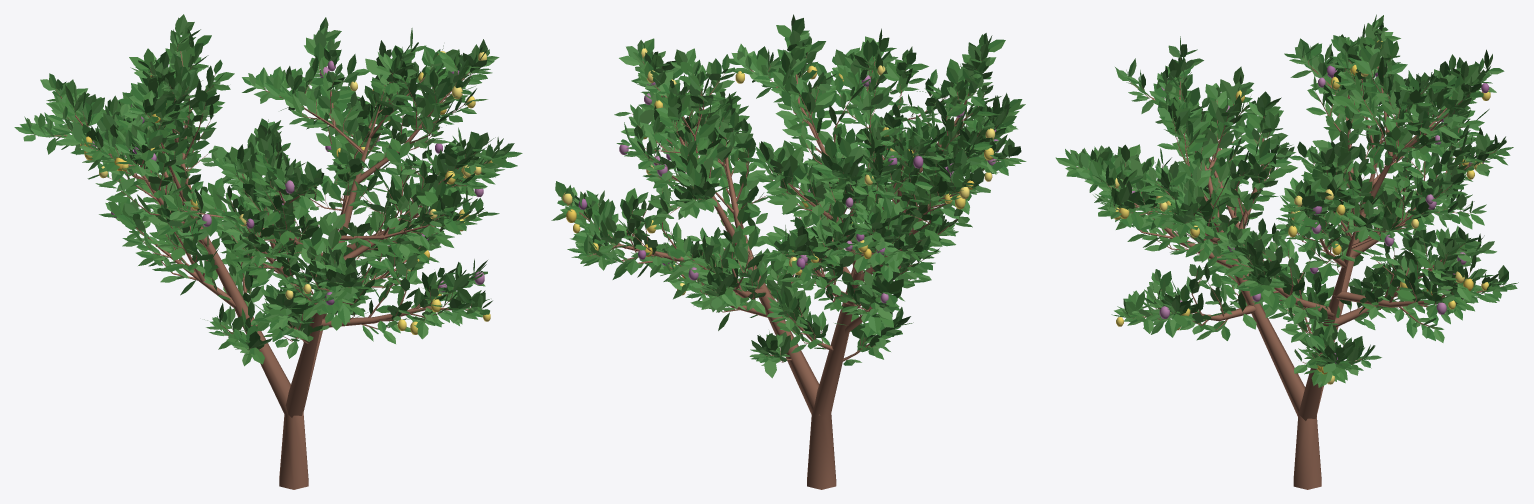
File: prunier_mirabelle_ete.glb
The picture shows the model from 3 angles, left to right: view 1: azimuth 30°, elevation 25°; view 2: azimuth 150°, elevation 25°; view 3: azimuth 270°, elevation 25°; orthographic projection. The views are drawn at different scales.
Parts seen in each view (by area): view 1: Prunier_Feuillage, Prunier_Tronc, Prunier_Prunes; view 2: Prunier_Feuillage, Prunier_Tronc, Prunier_Prunes; view 3: Prunier_Feuillage, Prunier_Tronc, Prunier_Prunes.
Boxes of the visible parts, bbox=[...] form: Prunier_Feuillage: bbox=[14, 14, 522, 366]; Prunier_Tronc: bbox=[33, 44, 490, 489]; Prunier_Prunes: bbox=[80, 51, 492, 334]; Prunier_Feuillage: bbox=[551, 14, 1026, 378]; Prunier_Tronc: bbox=[571, 52, 1009, 489]; Prunier_Prunes: bbox=[562, 48, 998, 303]; Prunier_Feuillage: bbox=[1055, 14, 1518, 387]; Prunier_Tronc: bbox=[1076, 56, 1503, 489]; Prunier_Prunes: bbox=[1114, 40, 1490, 384].
Size of the model in its own units: 3.83 by 3.94 by 3.97.
